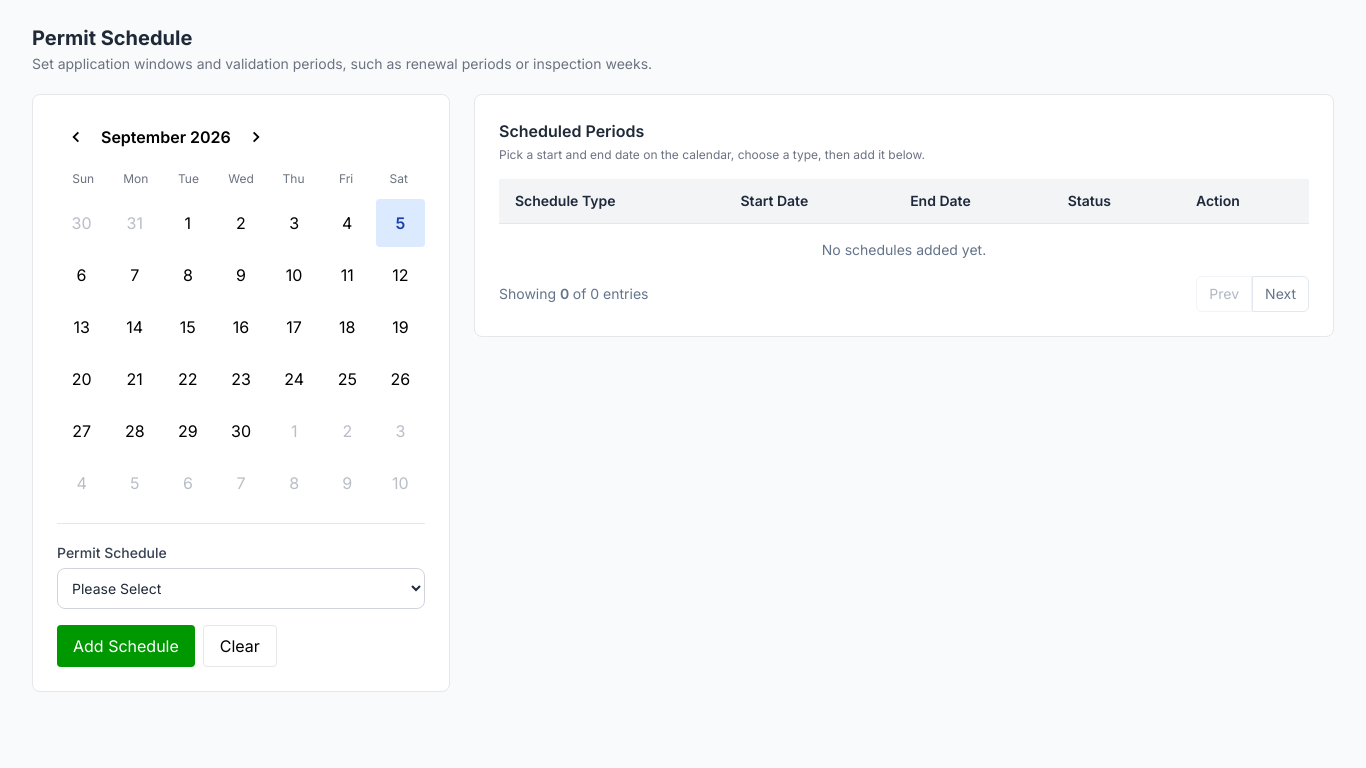
it: ScheduleComponent › shows the "please specify" input as soon as Others is selected in the actual rendered select
Select "Others" in the dropdown labelled "Permit Schedule". click: [241, 588]
box: [57,568,425,609]
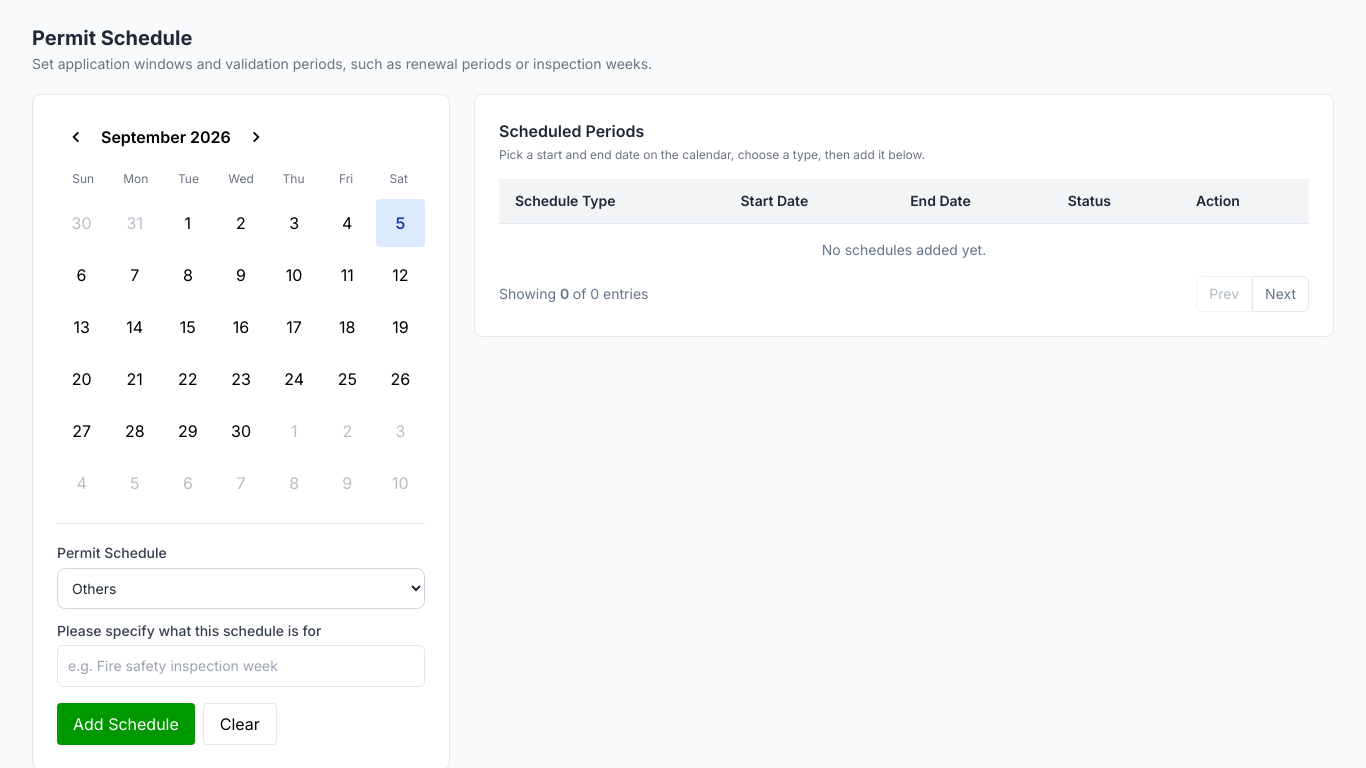
Result: the field labelled "Please specify what this schedule is for" is shown at [57,645,425,687]
